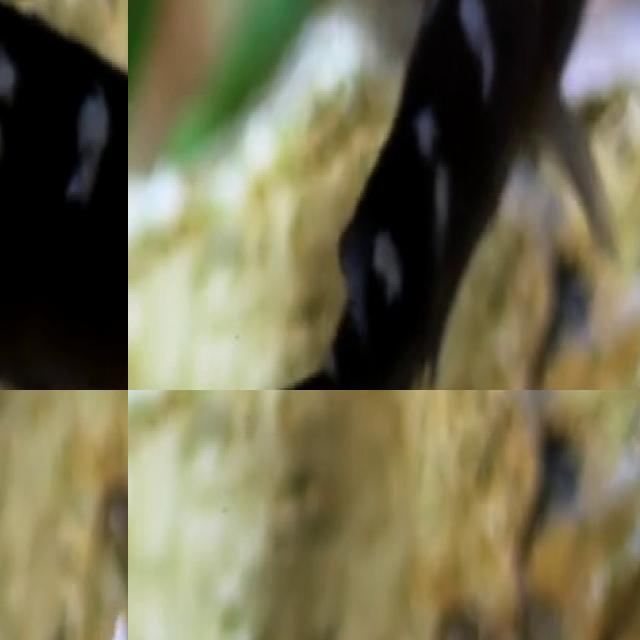fish: (211, 0, 611, 390), (0, 0, 128, 390)
